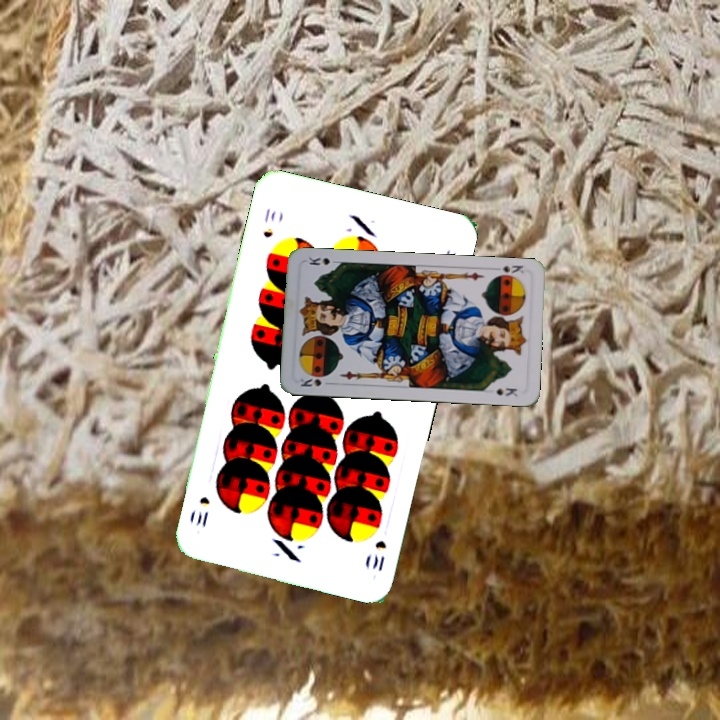S10: (368, 536, 389, 574), (259, 204, 278, 241)
SK: (296, 374, 335, 389), (498, 261, 526, 276)
